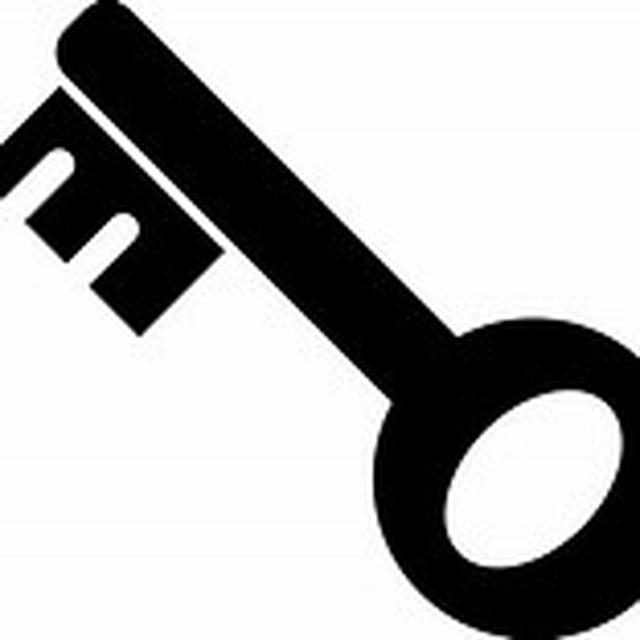key: (19, 21, 631, 630)
